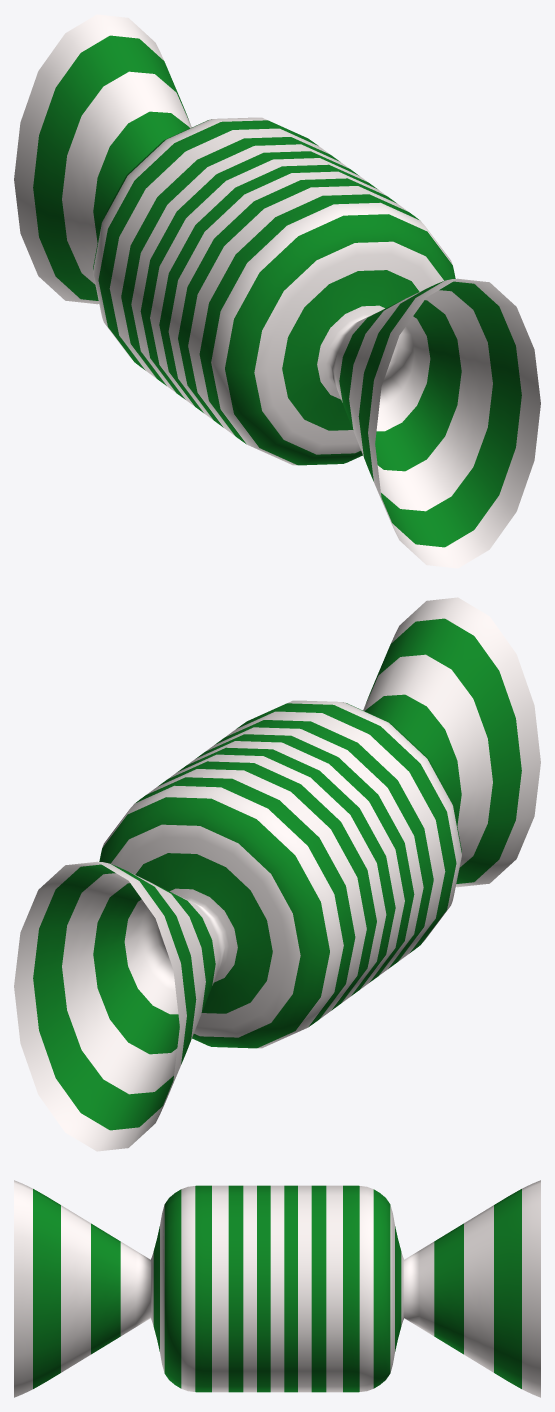
Rendered from Candy.fbx.
3 renders of one model, top to bottom at view 1: azimuth 30°, elevation 25°; view 2: azimuth 150°, elevation 25°; view 3: azimuth 270°, elevation 25°, orthographic. The views are drawn at different scales.
Visible parts, largest first — view 1: Candy; view 2: Candy; view 3: Candy.
Boxes of the visible parts, <box> form: Candy: <box>14,14,540,568</box>; Candy: <box>14,597,540,1151</box>; Candy: <box>14,1180,540,1397</box>.
Bounding box in the file's own units: 24.52 × 27.63 × 62.41.
